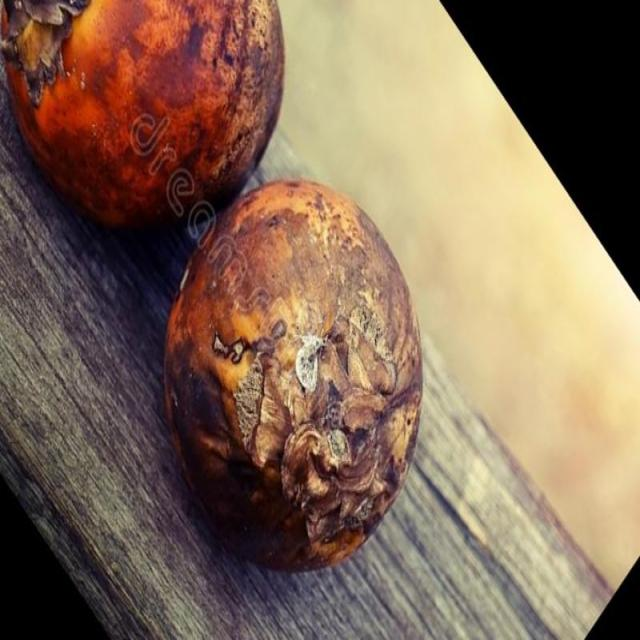damaged: (165, 180, 422, 567)
